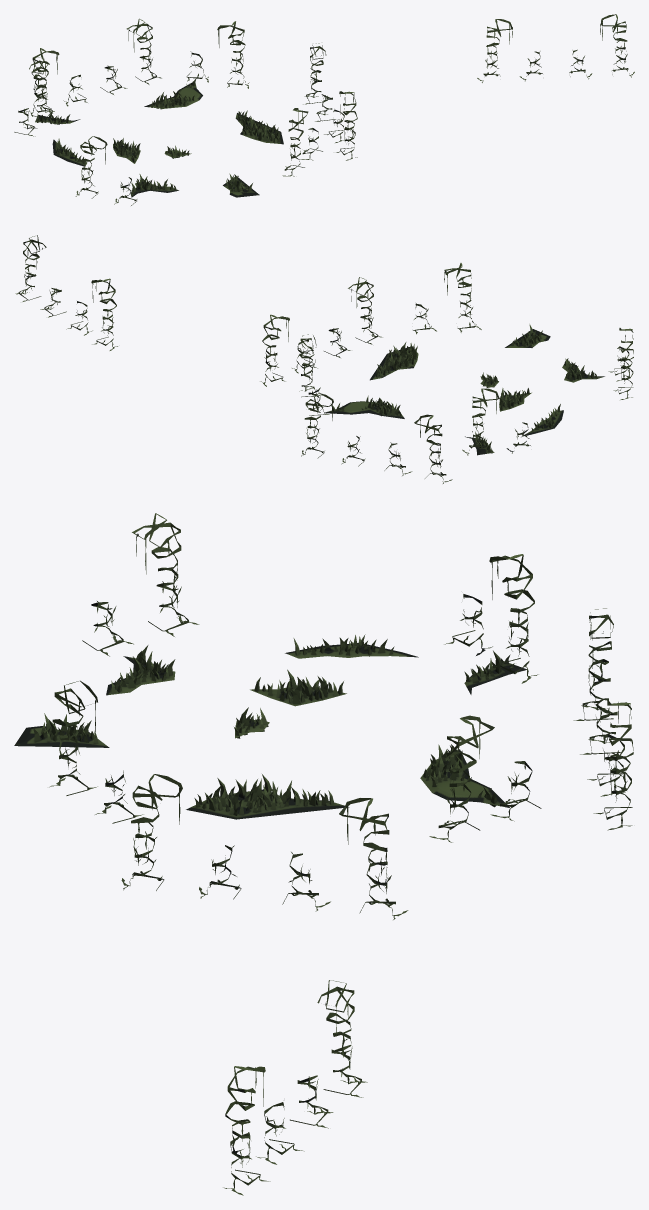
File: Plant_01.FBX
The picture shows the model from 3 angles, top to bottom: view 1: azimuth 30°, elevation 25°; view 2: azimuth 150°, elevation 25°; view 3: azimuth 270°, elevation 25°; orthographic projection. The views are drawn at different scales.
Parts seen in each view (by area): view 1: Plant_01; view 2: Plant_01; view 3: Plant_01.
Part boxes in pixels (x1,y1,x2,y2): Plant_01: (14,14,634,205); Plant_01: (15,235,633,483); Plant_01: (14,513,633,1195).
Size of the model in its own units: 45.01 by 6.57 by 22.47.
